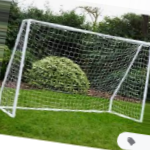goals: (1, 17, 150, 124)
